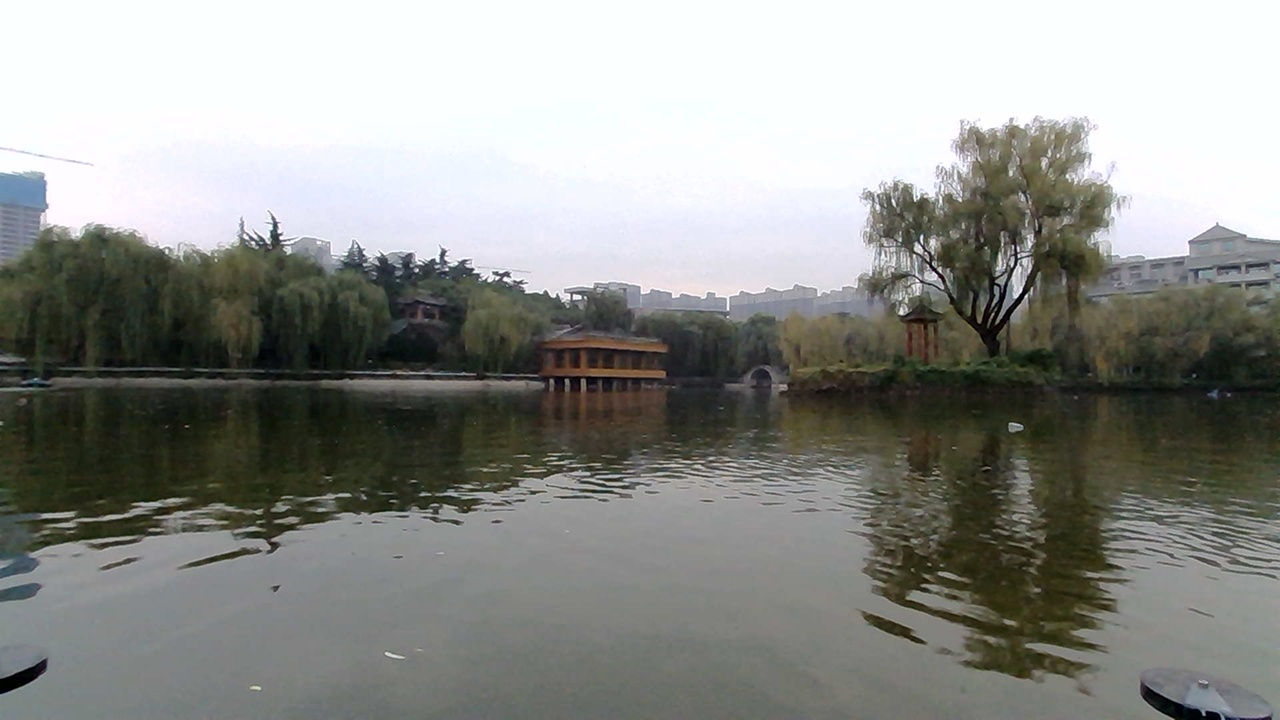bottle: (985, 403, 1040, 435)
